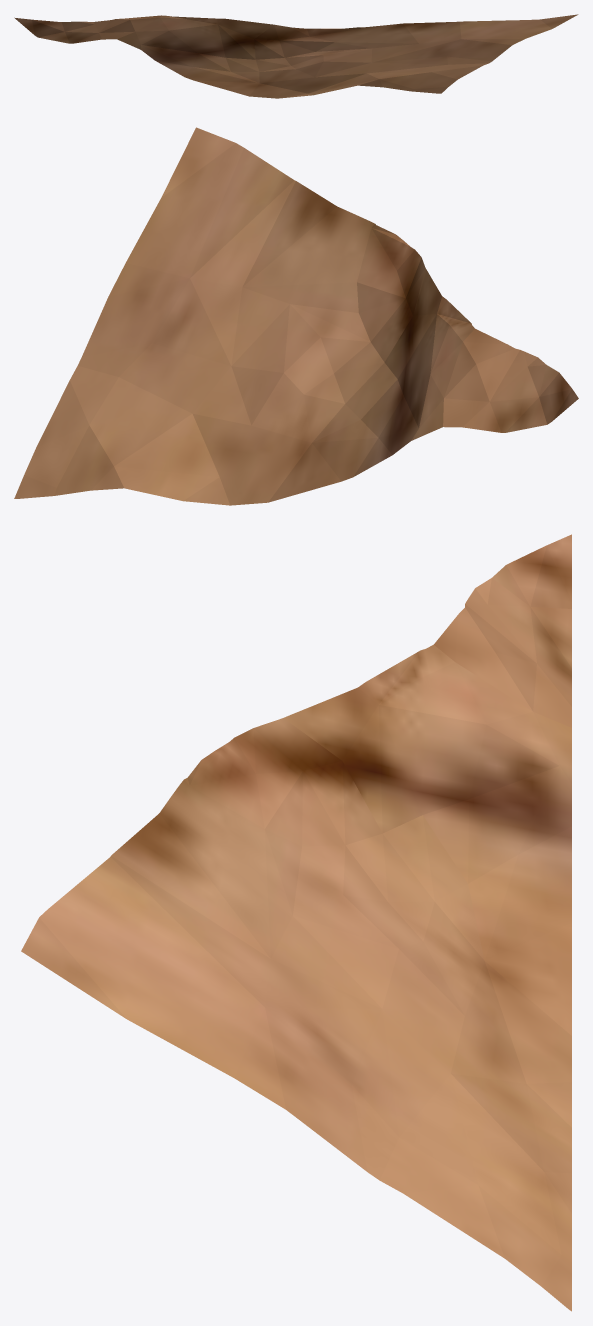
The picture shows the model from 3 angles, top to bottom: view 1: azimuth 30°, elevation 25°; view 2: azimuth 150°, elevation 25°; view 3: azimuth 270°, elevation 25°; orthographic projection. The views are drawn at different scales.
Bounding box in the file's own units: 0.2279 × 0.0919 × 0.1273.
Materials: 1 (1 with a texture image).
